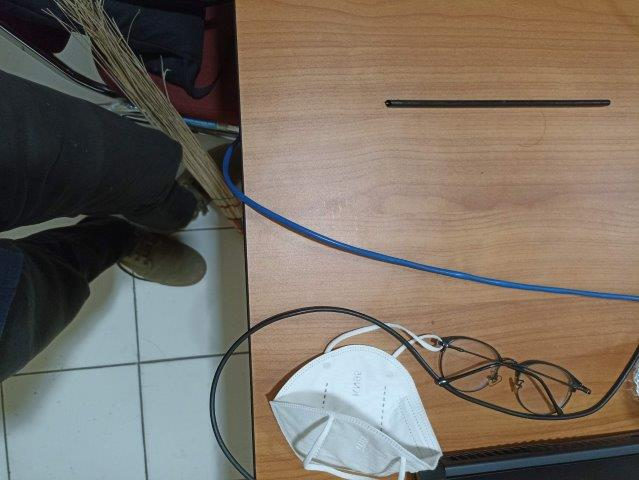sedotan: (385, 100, 610, 108)
